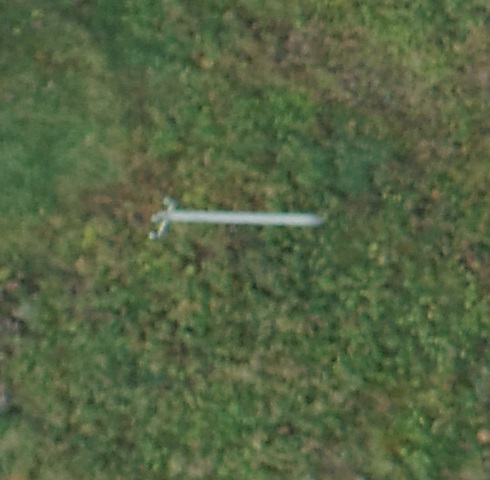opora: (146, 194, 327, 245)
